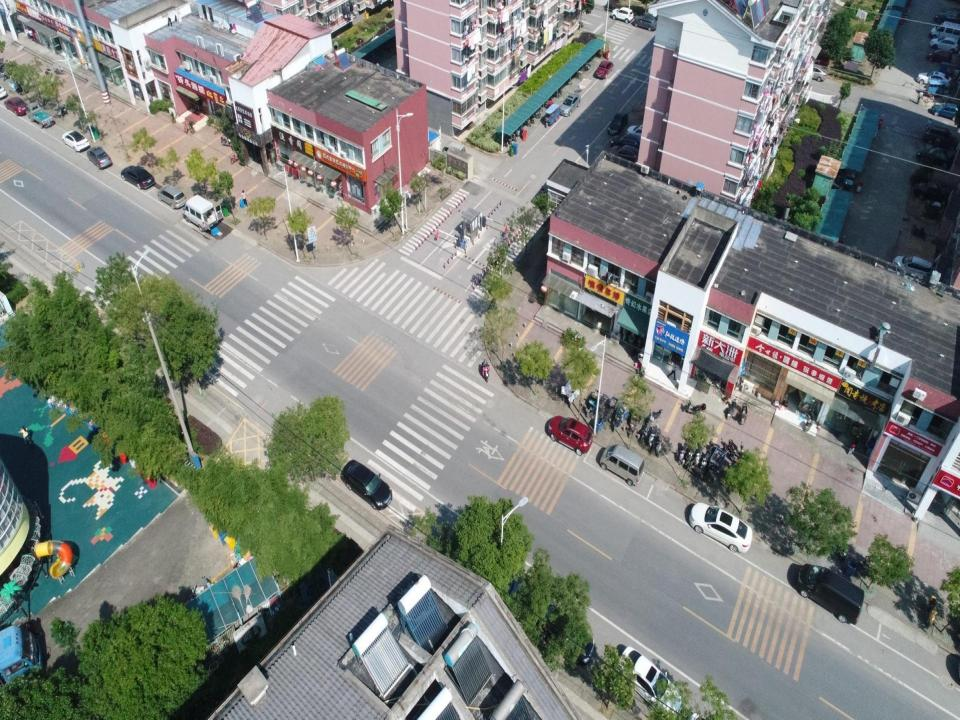bus: (0, 624, 43, 690)
car: (616, 646, 682, 719), (537, 604, 595, 666), (688, 502, 752, 554), (340, 459, 393, 510), (547, 415, 593, 455), (489, 572, 531, 602), (892, 255, 933, 283), (914, 179, 954, 207), (924, 123, 960, 150), (120, 164, 155, 191), (916, 146, 952, 170), (157, 183, 186, 210), (610, 133, 648, 151), (916, 70, 952, 89), (61, 130, 90, 153), (626, 124, 656, 146), (609, 144, 642, 164), (86, 146, 112, 170), (607, 111, 629, 137), (929, 36, 959, 55), (559, 92, 581, 117), (932, 102, 959, 122), (933, 7, 960, 27), (4, 96, 28, 116), (610, 5, 634, 24), (927, 48, 953, 64), (634, 14, 658, 31), (595, 60, 614, 80), (804, 66, 826, 82), (687, 712, 707, 720), (0, 82, 8, 100)
truck: (25, 102, 54, 128)
van: (797, 563, 864, 625), (599, 444, 645, 486), (182, 194, 218, 232), (930, 20, 959, 43), (444, 140, 466, 159)
